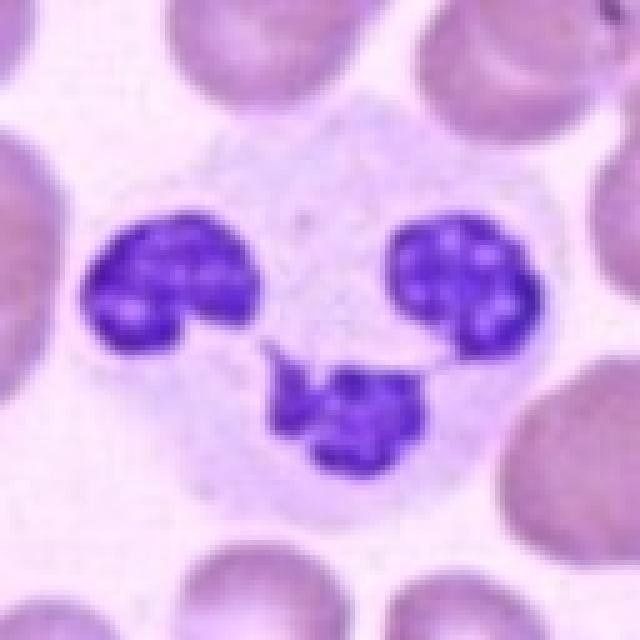neutro: (97, 80, 530, 522)
